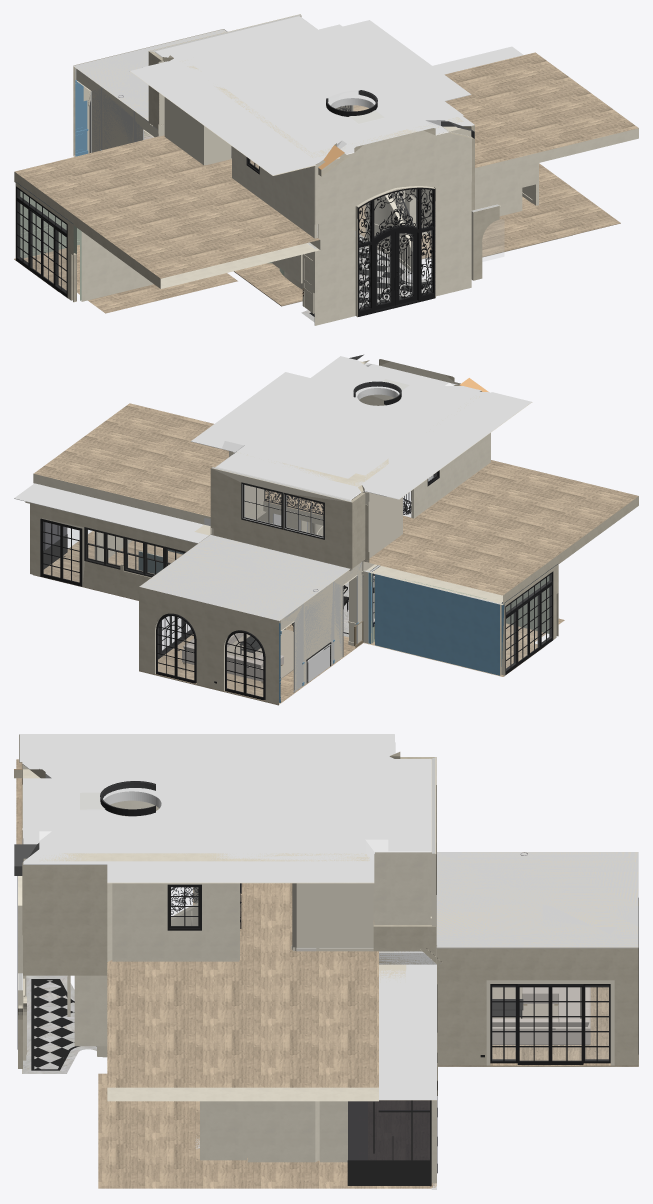
Rendered from family-room-30c8eeb54aa2.glb.
The picture shows the model from 3 angles, top to bottom: view 1: azimuth 30°, elevation 25°; view 2: azimuth 150°, elevation 25°; view 3: azimuth 270°, elevation 25°; orthographic projection. The views are drawn at different scales.
Visible parts, largest first — view 1: family-room-look-2575515a05775d9e, family-room-look-e8793759323e04f0, family-room-look-9d91b47435c6fb33, family-room-look-34525a54e63b733b, family-room-look-3b0077416469e01b, family-room-look-d5a4a1b5d3594c04, family-room-look-5f56640b372ec5ce, family-room-look-746250f96522f643, family-room-4a969f5cc1ae3dfe, family-room-look-bce662e26d5a5947, family-room-look-d999b7e09afcf2f4, family-room-9d80b152e3f2ea10 (+30 smaller); view 2: family-room-look-2575515a05775d9e, family-room-look-e8793759323e04f0, family-room-look-9d91b47435c6fb33, family-room-4a969f5cc1ae3dfe, family-room-look-b19b106fc304963c, family-room-look-245f595ae2832e16, family-room-969b861f9850351e, family-room-look-bfb9fa537cd11d1d, family-room-look-9a0e9ee9b2a451d7, family-room-9d80b152e3f2ea10, family-room-look-5f56640b372ec5ce, family-room-55ff1dfd7b659ec1 (+27 smaller); view 3: family-room-look-2575515a05775d9e, family-room-look-e8793759323e04f0, family-room-look-9d91b47435c6fb33, family-room-4a969f5cc1ae3dfe, family-room-look-3b0077416469e01b, family-room-e706aa16b4547c37, family-room-look-62353aa10fc57f23, family-room-50d54560d247b537, family-room-look-c51ecd664a3b22a3, family-room-look-9a0e9ee9b2a451d7, family-room-look-5f56640b372ec5ce, family-room-look-69af8f587252f9fa (+28 smaller).
Part boxes in pixels (x1,y1,x2,y2): family-room-look-2575515a05775d9e: (14,52,638,288); family-room-look-e8793759323e04f0: (180,23,463,157); family-room-look-9d91b47435c6fb33: (130,16,474,175); family-room-look-34525a54e63b733b: (314,126,471,244); family-room-look-3b0077416469e01b: (14,163,620,306); family-room-look-d5a4a1b5d3594c04: (314,208,471,325); family-room-look-5f56640b372ec5ce: (254,81,404,139); family-room-look-746250f96522f643: (232,146,317,238); family-room-4a969f5cc1ae3dfe: (73,29,226,120); family-room-look-bce662e26d5a5947: (357,187,435,316); family-room-look-d999b7e09afcf2f4: (80,230,153,301); family-room-9d80b152e3f2ea10: (76,69,158,152); family-room-look-2575515a05775d9e: (33,403,638,604); family-room-look-e8793759323e04f0: (222,356,481,486); family-room-look-9d91b47435c6fb33: (191,362,532,500); family-room-4a969f5cc1ae3dfe: (139,534,349,621); family-room-look-b19b106fc304963c: (375,573,501,675); family-room-look-245f595ae2832e16: (210,467,352,568); family-room-969b861f9850351e: (139,587,280,704); family-room-look-bfb9fa537cd11d1d: (30,502,197,600); family-room-look-9a0e9ee9b2a451d7: (14,483,208,543); family-room-9d80b152e3f2ea10: (280,562,362,690); family-room-look-5f56640b372ec5ce: (324,377,464,430); family-room-55ff1dfd7b659ec1: (281,562,362,692); family-room-look-2575515a05775d9e: (16,759,378,1101); family-room-look-e8793759323e04f0: (39,756,388,861); family-room-look-9d91b47435c6fb33: (19,734,431,883); family-room-4a969f5cc1ae3dfe: (436,852,638,948); family-room-look-3b0077416469e01b: (98,920,436,1188); family-room-e706aa16b4547c37: (437,948,633,1065); family-room-look-62353aa10fc57f23: (23,865,112,975); family-room-50d54560d247b537: (436,852,638,948); family-room-look-c51ecd664a3b22a3: (112,883,239,961); family-room-look-9a0e9ee9b2a451d7: (379,964,436,1100); family-room-look-5f56640b372ec5ce: (83,756,196,825); family-room-look-69af8f587252f9fa: (292,883,373,947).
Size of the model in its own units: 21.02 by 7.02 by 16.88.
67 materials, 11 textured.
